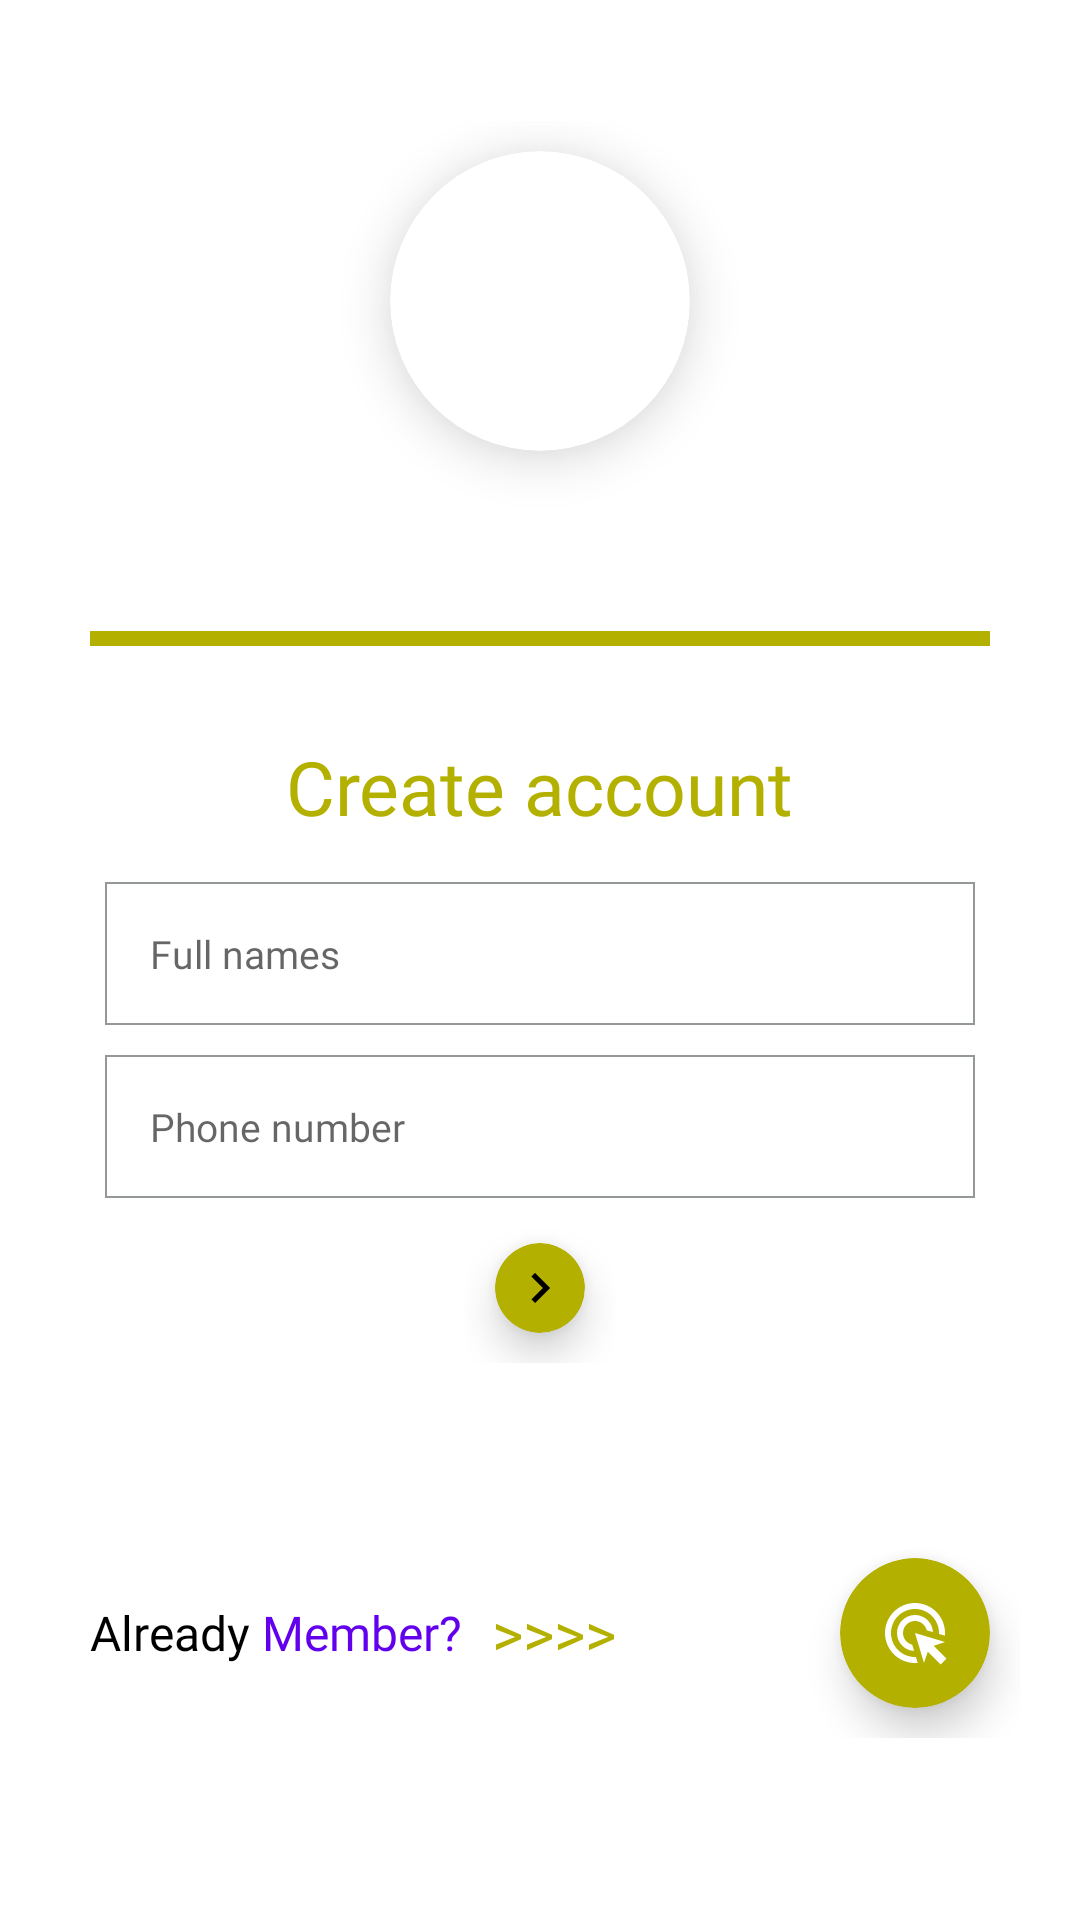

Icon click points for this 1080*1920 phone screenshot, format [x,y]:
ads click: [915,1633]
navigate next: [540,1288]
